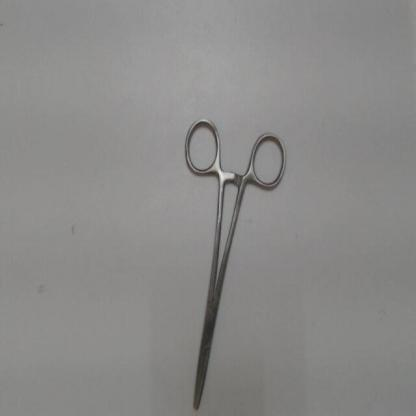Mayo Needle Holder: (175, 108, 294, 415)
